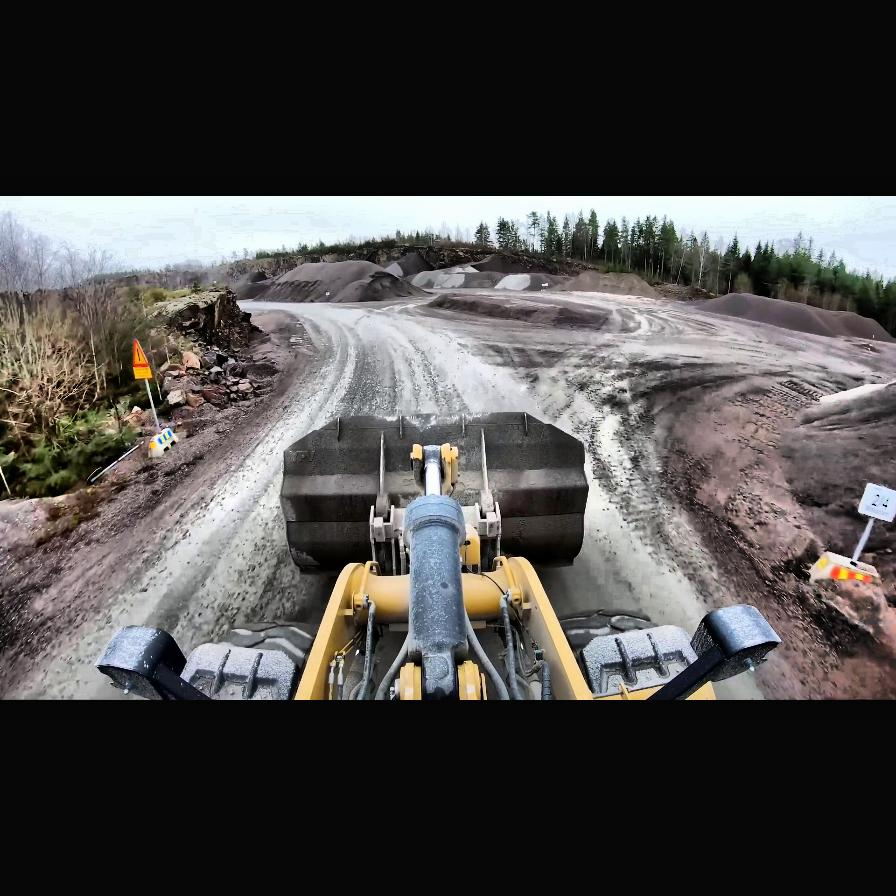anchor: (412, 442, 460, 495)
pile of gravel: (780, 380, 895, 700), (685, 292, 893, 346), (424, 293, 612, 333), (250, 260, 420, 304), (564, 271, 646, 297), (414, 270, 518, 290), (467, 253, 554, 275), (380, 250, 438, 279)
